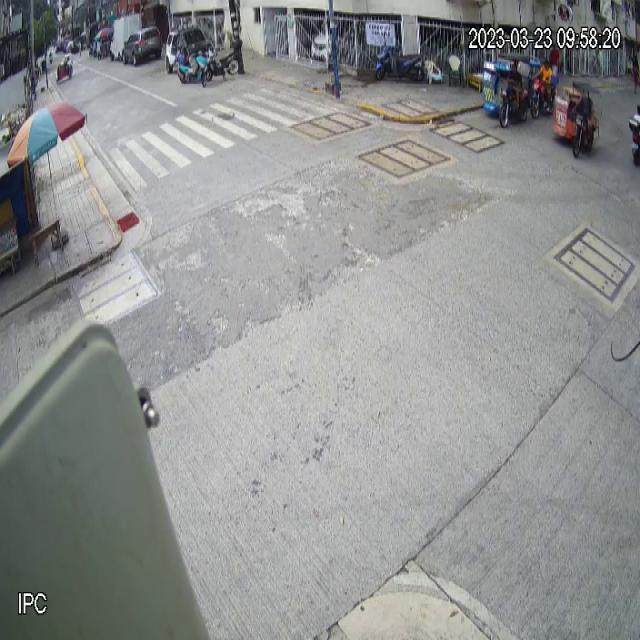Tricycle: (552, 79, 602, 159), (481, 52, 531, 128)
